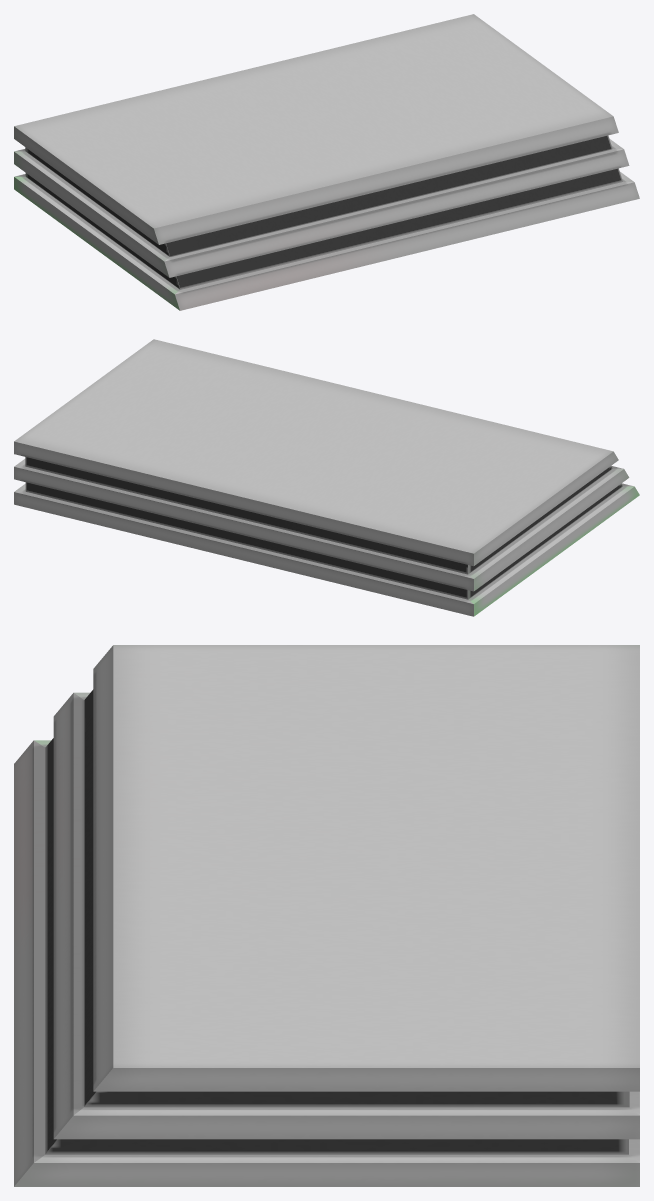
Rendered from NetCafe_PlayStation 4.fbx.
3 views of the same model, one above another, from view 1: azimuth 30°, elevation 25°; view 2: azimuth 150°, elevation 25°; view 3: azimuth 270°, elevation 25° (orthographic). The views are drawn at different scales.
Parts seen in each view (by area): view 1: Box458; view 2: Box458; view 3: Box458.
Part boxes in pixels (left/top/right/bottom): Box458: left=14, top=14, right=639, bottom=310; Box458: left=14, top=339, right=639, bottom=616; Box458: left=14, top=645, right=639, bottom=1186.
Size of the model in its own units: 0.4948 by 0.0649 by 0.3096.
1 material, 1 textured.
